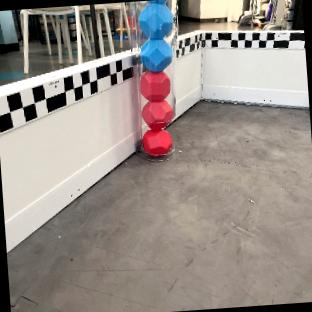Loader: (128, 0, 177, 160)
V5_BLUE: (138, 1, 172, 37), (139, 37, 172, 70)
V5_RED: (140, 66, 170, 100), (141, 96, 172, 124), (142, 126, 171, 155)
